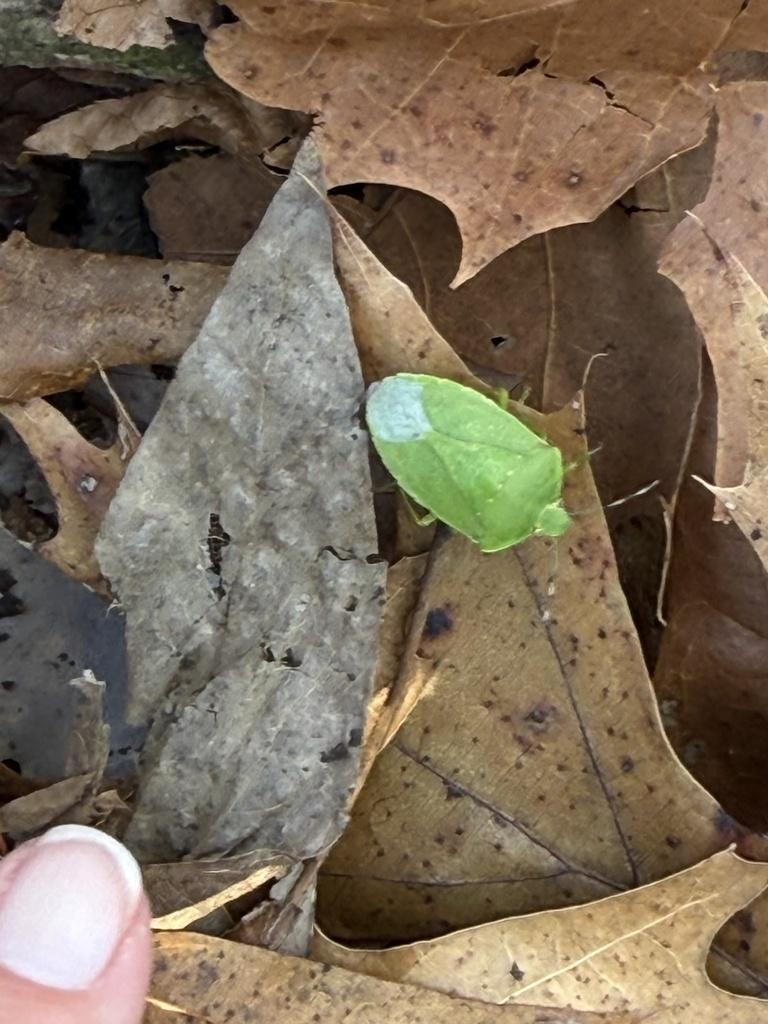stink_bugs: (328, 302, 680, 660)
